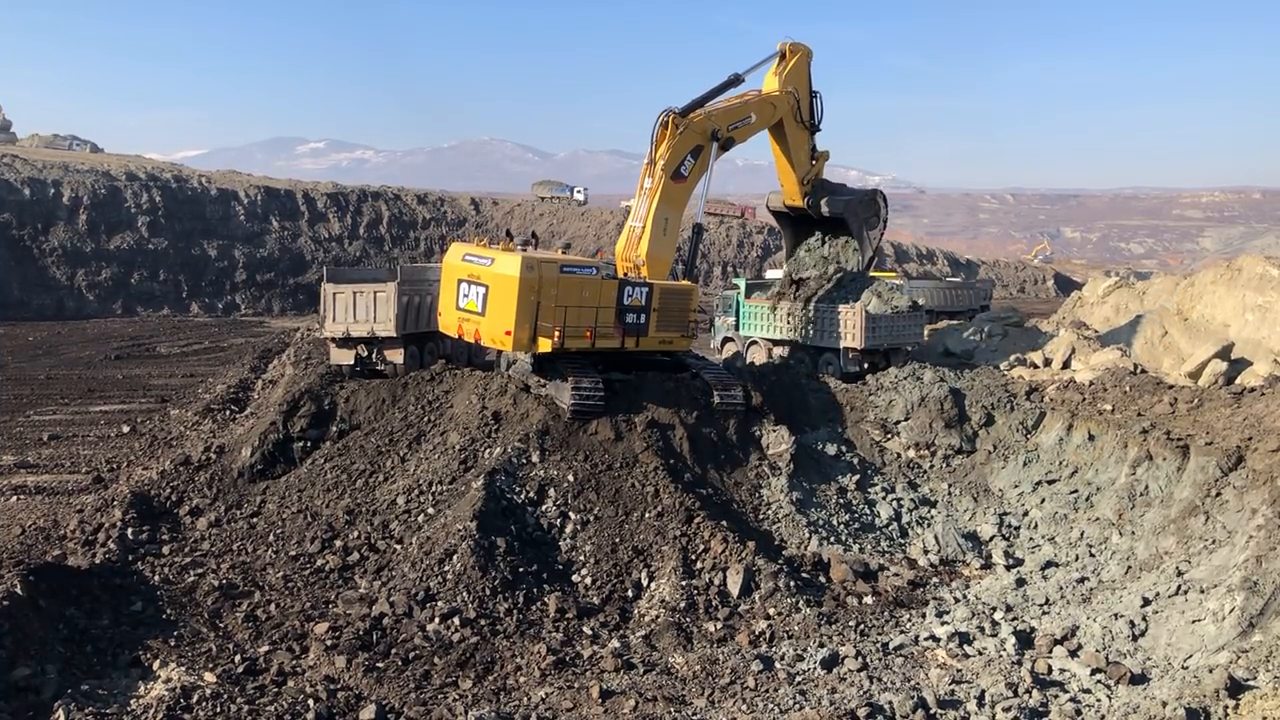full: (761, 186, 896, 285)
